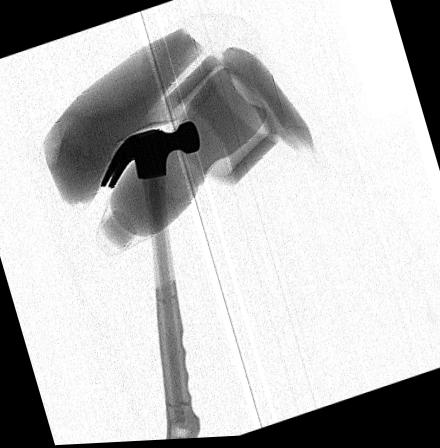Hammer: (98, 121, 201, 441)
